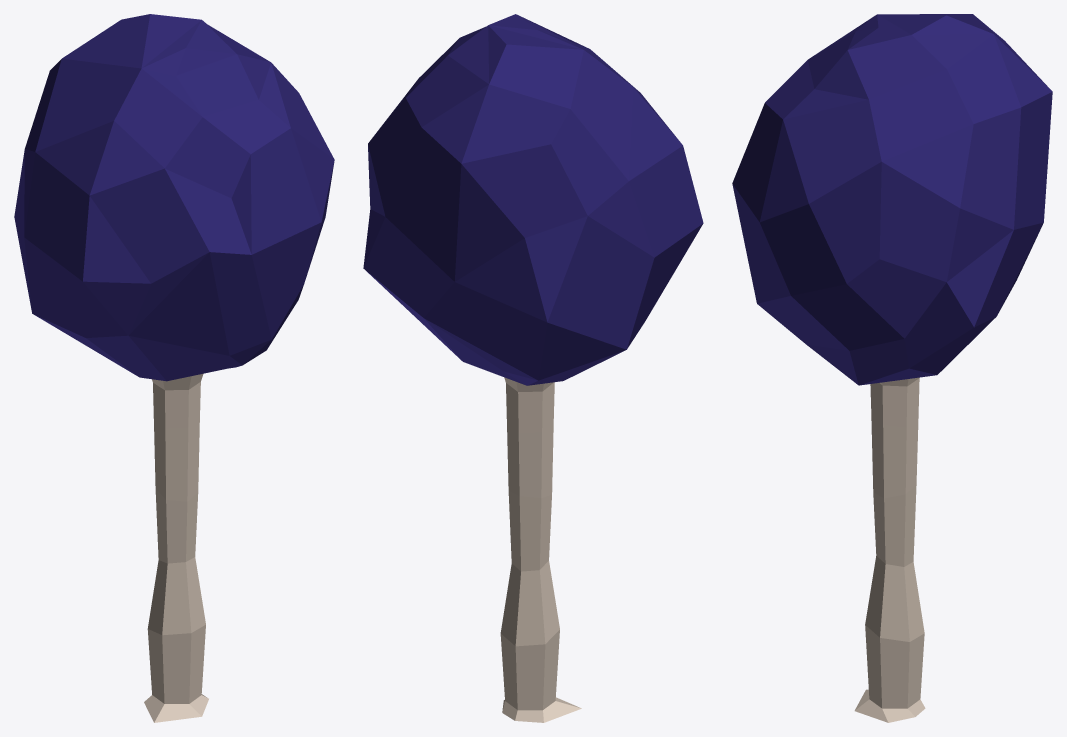
Rendered from tree_small3.fbx.
The picture shows the model from 3 angles, left to right: view 1: azimuth 30°, elevation 25°; view 2: azimuth 150°, elevation 25°; view 3: azimuth 270°, elevation 25°; orthographic projection. The views are drawn at different scales.
Visible parts, largest first — view 1: Sphere; view 2: Sphere; view 3: Sphere.
Part boxes in pixels (x1,y1,x2,y2): Sphere: (14,14,334,722); Sphere: (363,14,703,722); Sphere: (732,14,1052,722).
Size of the model in its own units: 114 by 266 by 112.
